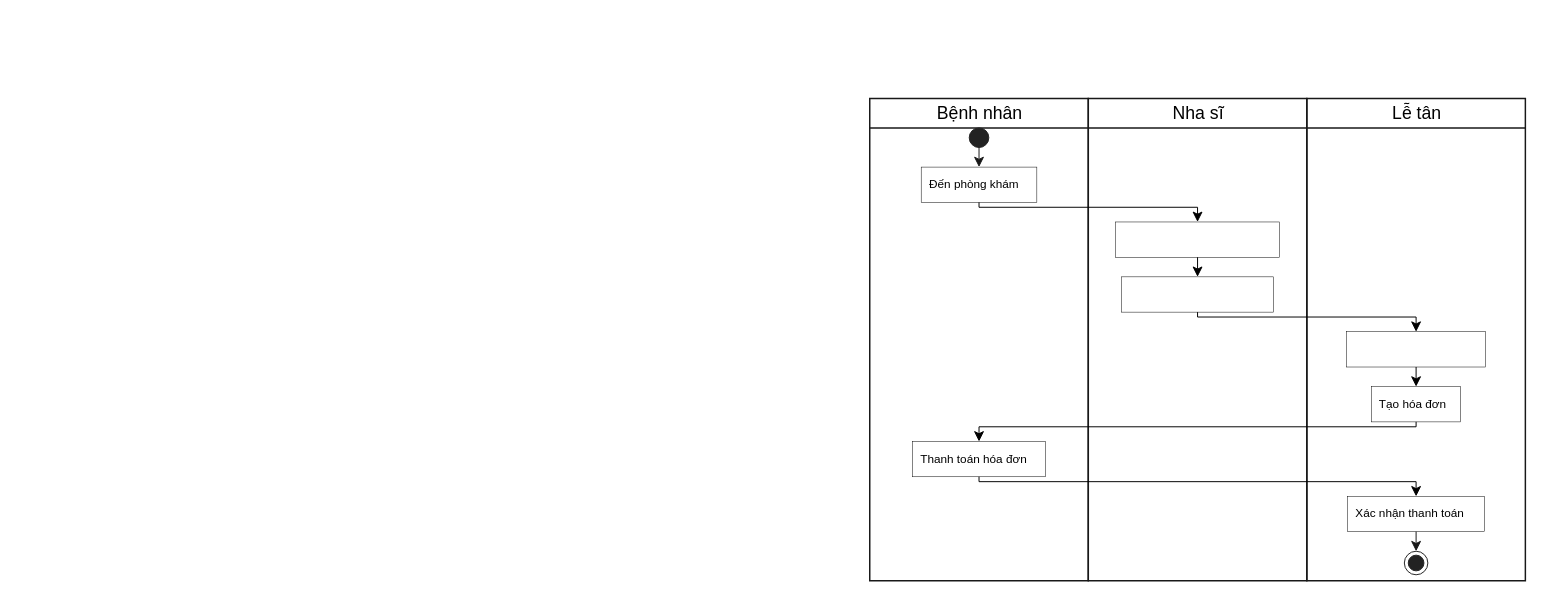
Image size: 1543x598. Some labels were removed from this diagram. Each missing label, with the centre of its shape:
Ghi nhận hồ sơ điều trị: (1197,294)
Khám bệnh và chẩn đoán: (1197,239)
Nhận thông tin hồ sơ: (1415,349)
